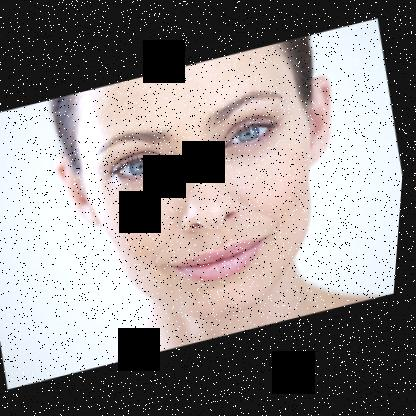Female: (34, 33, 381, 350)
